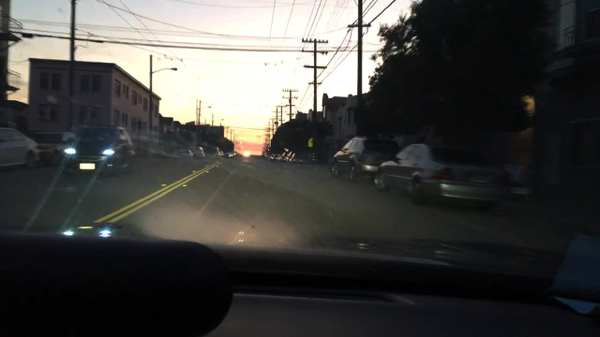car: (373, 144, 511, 212), (63, 125, 136, 176), (330, 136, 400, 184), (0, 127, 41, 169), (33, 131, 77, 167), (204, 145, 219, 159), (190, 146, 205, 160), (179, 149, 193, 160), (293, 154, 304, 163), (286, 152, 294, 162), (266, 152, 272, 161), (277, 153, 283, 162), (281, 154, 287, 162), (218, 150, 224, 157), (273, 154, 279, 161), (263, 152, 269, 158), (270, 154, 275, 161), (230, 152, 235, 157), (224, 151, 228, 157), (235, 151, 240, 155)
traffic light: (322, 94, 329, 106), (307, 138, 313, 147)
